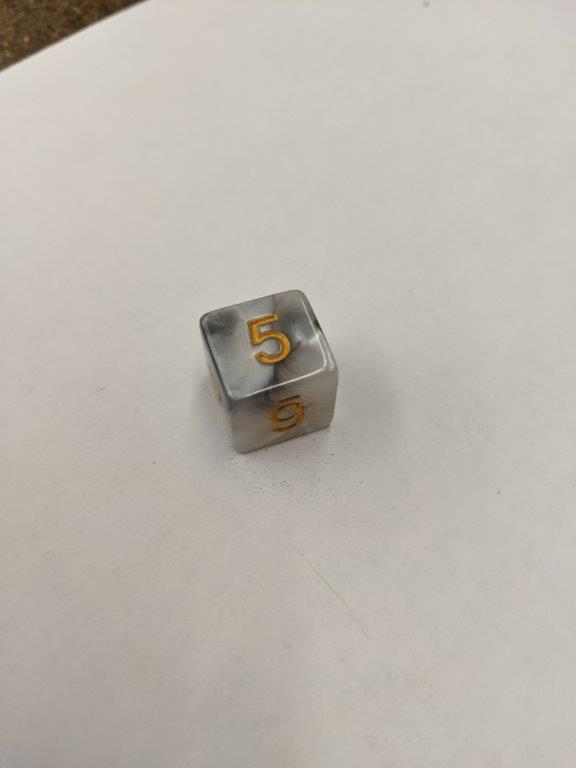d6-5: (201, 285, 340, 459)
